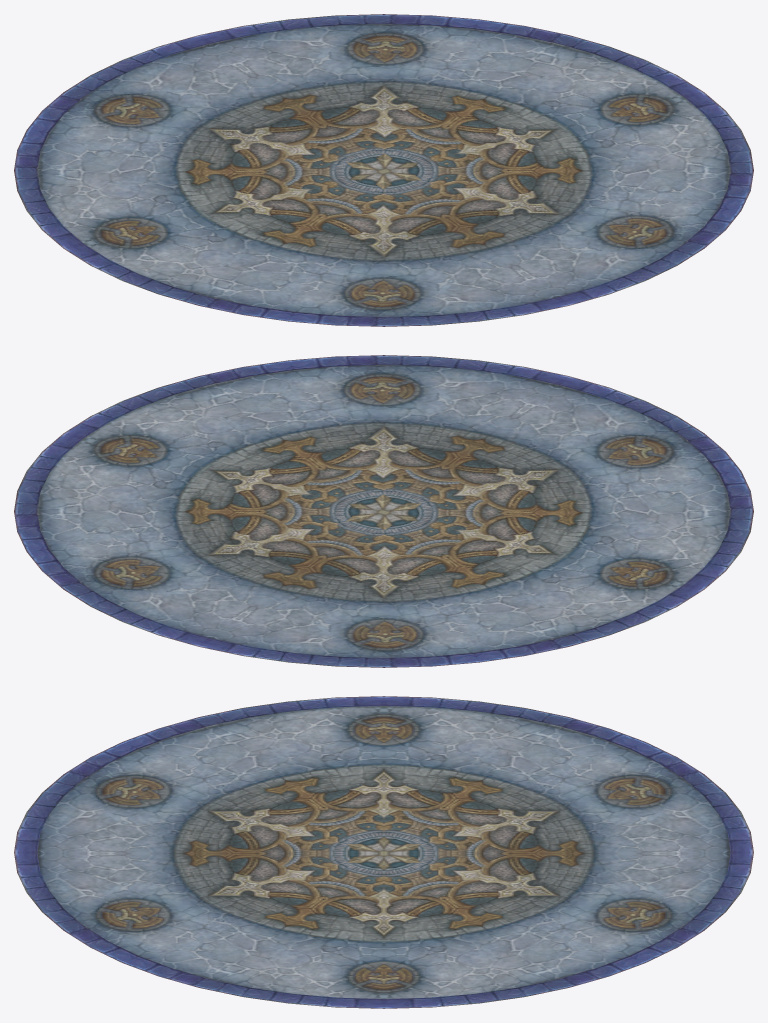
The model's file is S_Build_City019_H1.FBX.
3 renders of one model, top to bottom at view 1: azimuth 30°, elevation 25°; view 2: azimuth 150°, elevation 25°; view 3: azimuth 270°, elevation 25°, orthographic.
Visible parts, largest first — view 1: S_Build_City019_H1; view 2: S_Build_City019_H1; view 3: S_Build_City019_H1.
Boxes of the visible parts, <box> form: S_Build_City019_H1: <box>14,14,753,326</box>; S_Build_City019_H1: <box>14,355,753,667</box>; S_Build_City019_H1: <box>14,696,753,1008</box>.
Size of the model in its own units: 327 by 327 by 0.4572.
Materials: 2 (2 with a texture image).
